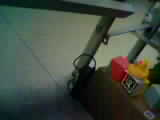duck: (121, 52, 148, 82)
